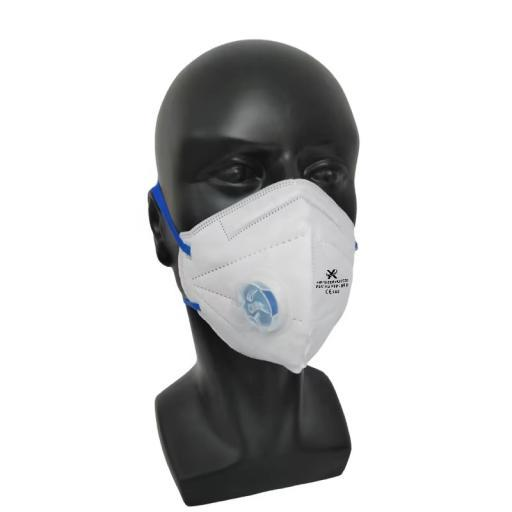mask: (172, 176, 368, 378)
